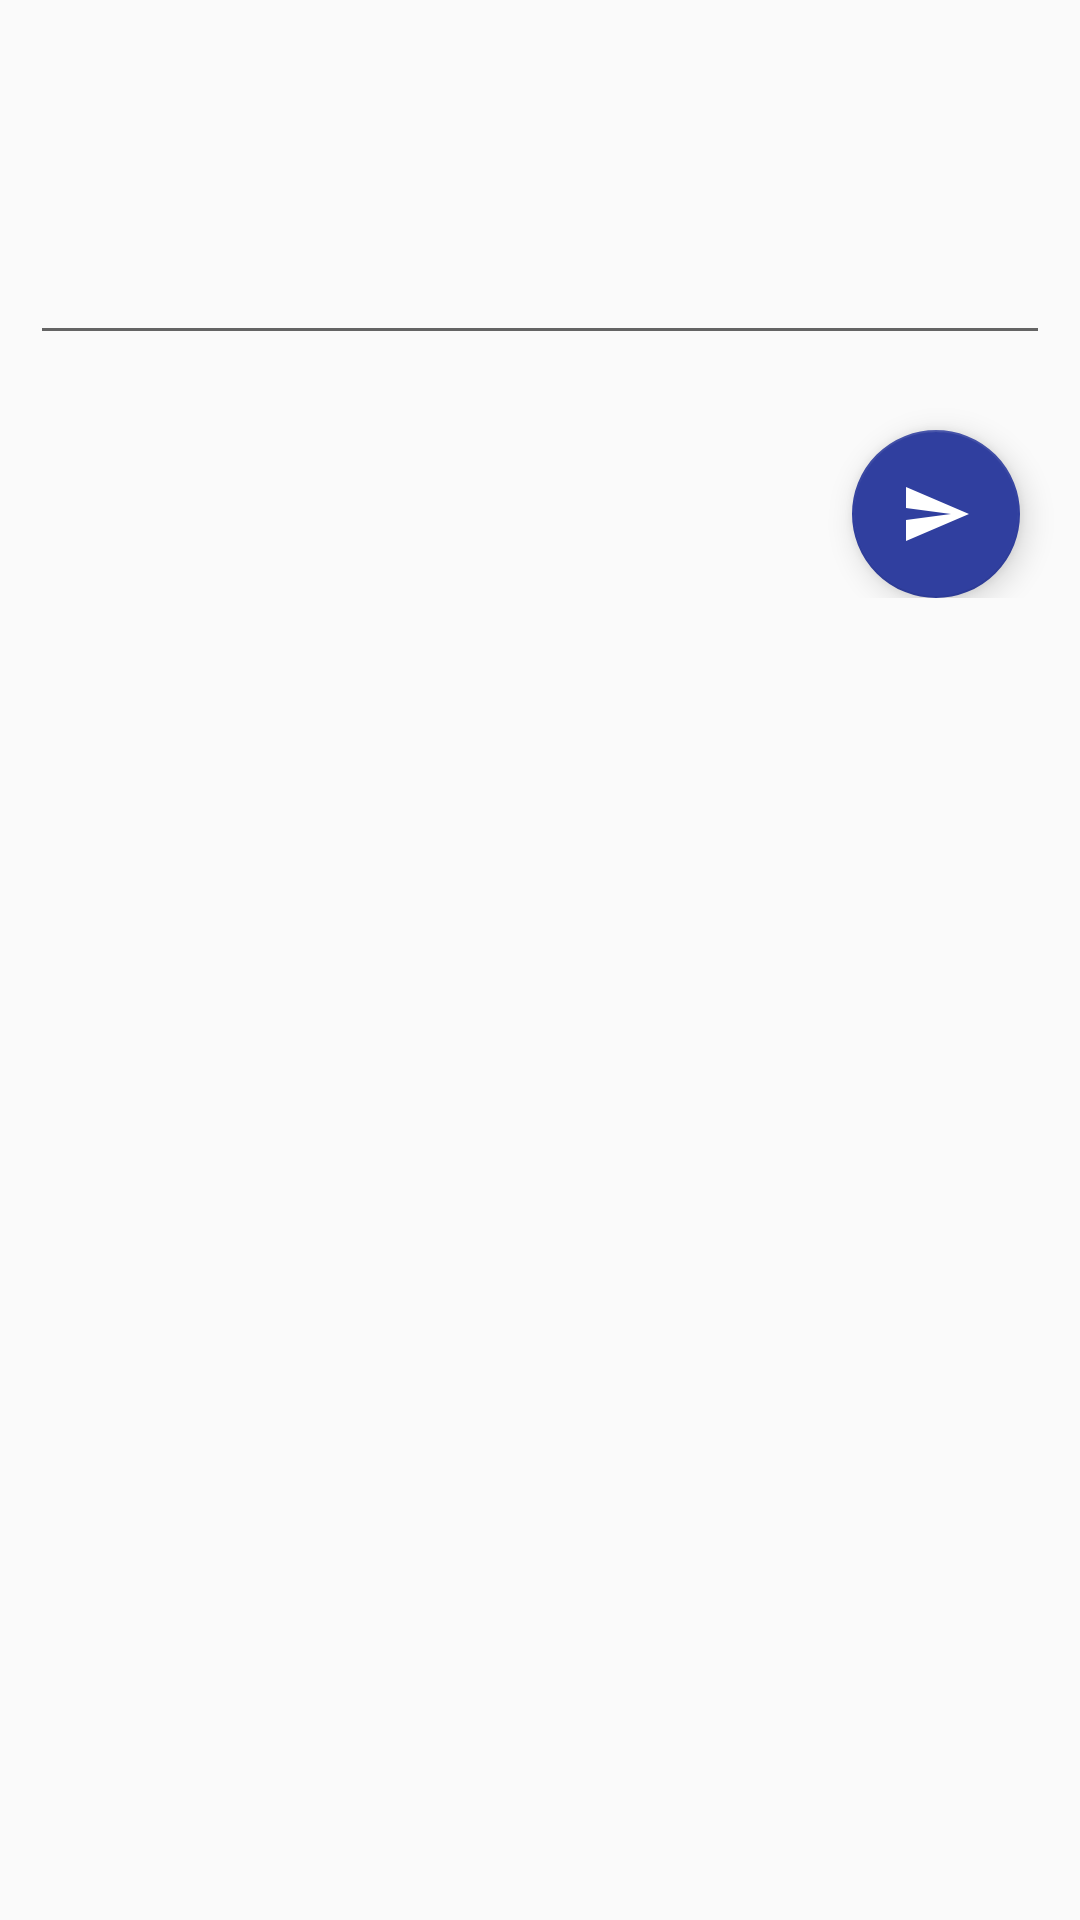

Point at icon controls on the screen. Image size 1080 x 1920, points as (x,y).
send: (936,514)
